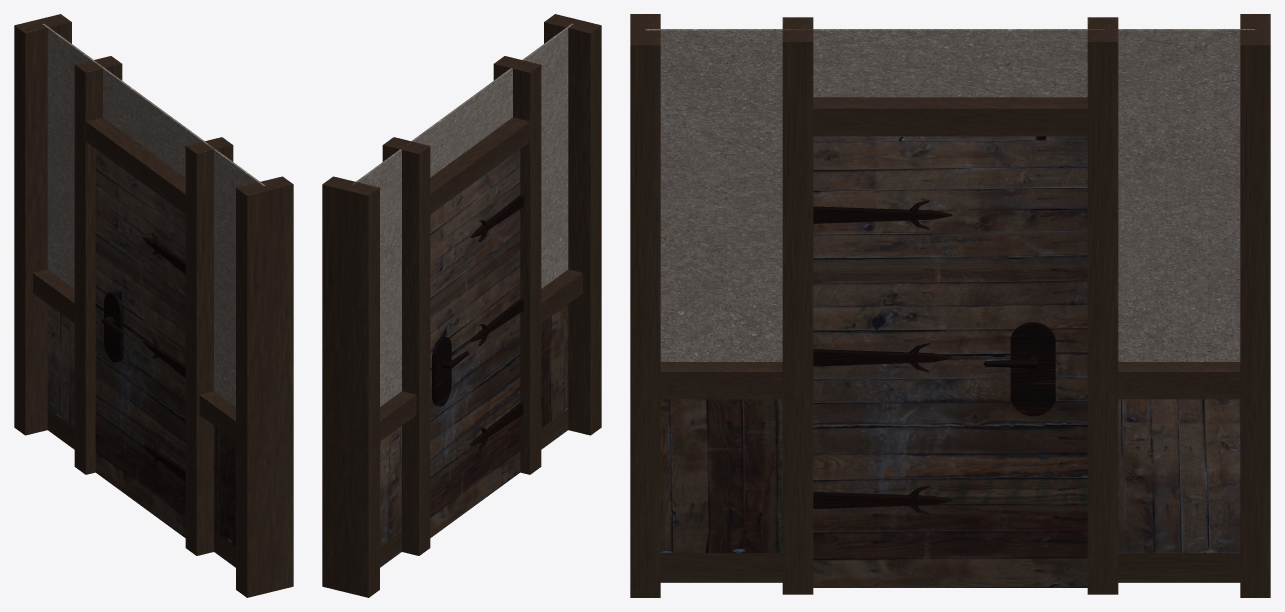
File: OutdoorArchitecture_BasicWall02_Door01_Closed_BothEdges_BShortt.fbx
3 renders of one model, left to right at view 1: azimuth 30°, elevation 25°; view 2: azimuth 150°, elevation 25°; view 3: azimuth 270°, elevation 25°, orthographic. The views are drawn at different scales.
Visible parts, largest first — view 1: OutdoorArchitecture_BasicWall02_Door01_Closed_BothEdges_BSho; view 2: OutdoorArchitecture_BasicWall02_Door01_Closed_BothEdges_BSho; view 3: OutdoorArchitecture_BasicWall02_Door01_Closed_BothEdges_BSho.
Boxes of the visible parts, box(x1,y1,x2,y2) form: OutdoorArchitecture_BasicWall02_Door01_Closed_BothEdges_BSho: box(14, 14, 293, 597); OutdoorArchitecture_BasicWall02_Door01_Closed_BothEdges_BSho: box(322, 14, 601, 597); OutdoorArchitecture_BasicWall02_Door01_Closed_BothEdges_BSho: box(630, 14, 1270, 597).
Bounding box in the file's own units: 36.37 × 300 × 315.
